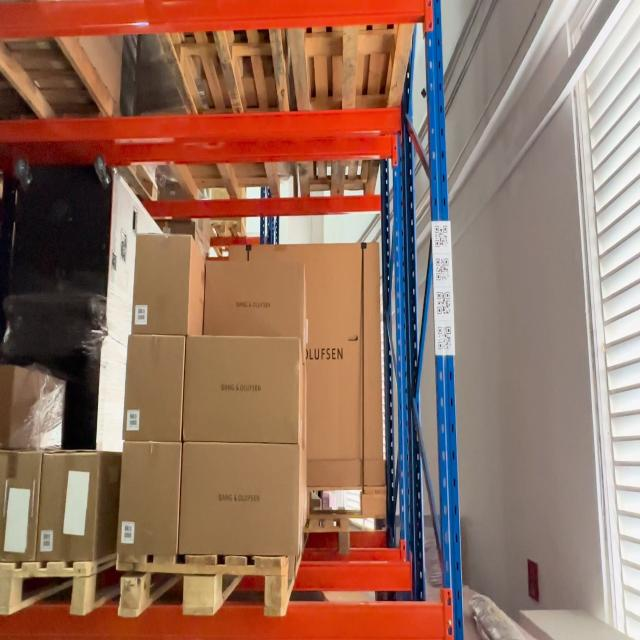box: (182, 445, 298, 556), (183, 339, 299, 442), (202, 262, 303, 338), (119, 445, 179, 557), (40, 452, 96, 560), (128, 337, 184, 440), (134, 237, 188, 334), (0, 451, 40, 562), (0, 366, 45, 449)
